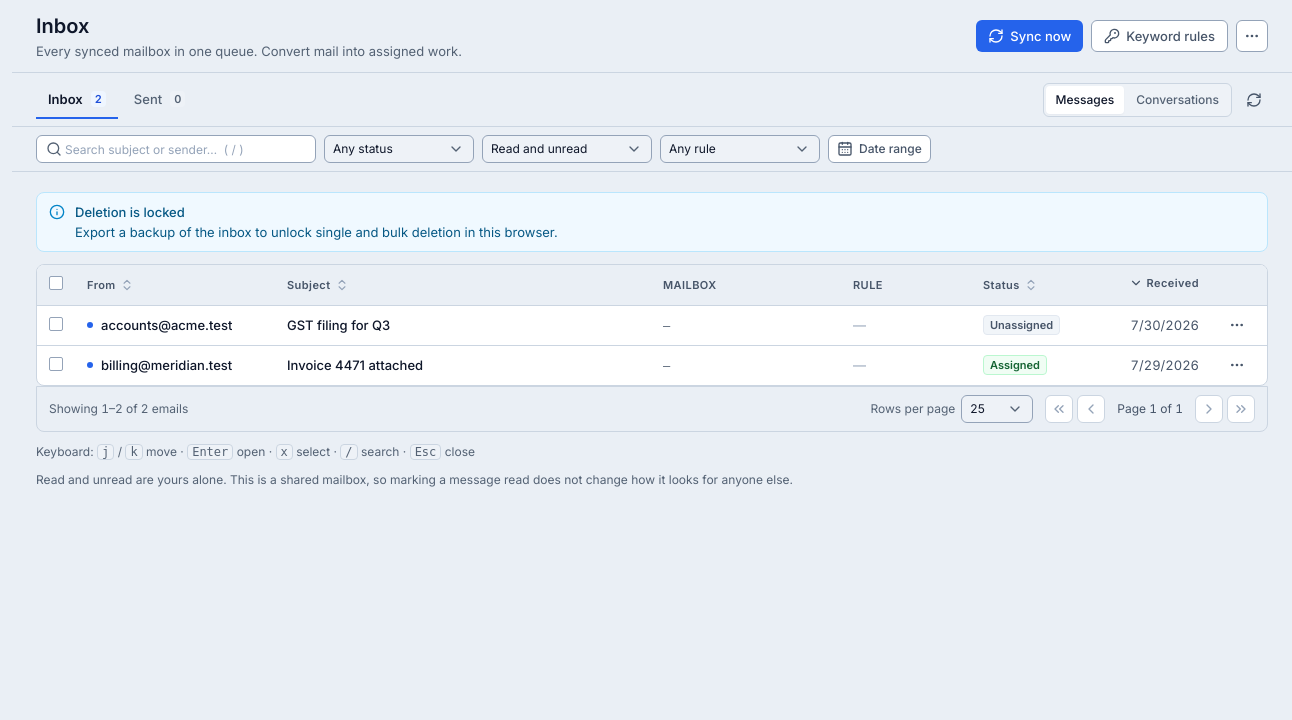
it: EmailInbox — search is debounced and abortable › collapses a burst of keystrokes into one request
The image size is (1292, 720).
Check: the text "GST filing for Q3" is shown, box [287, 317, 390, 333]
In the search field named "search emails": [176, 149] box [36, 135, 316, 163], type "GST"
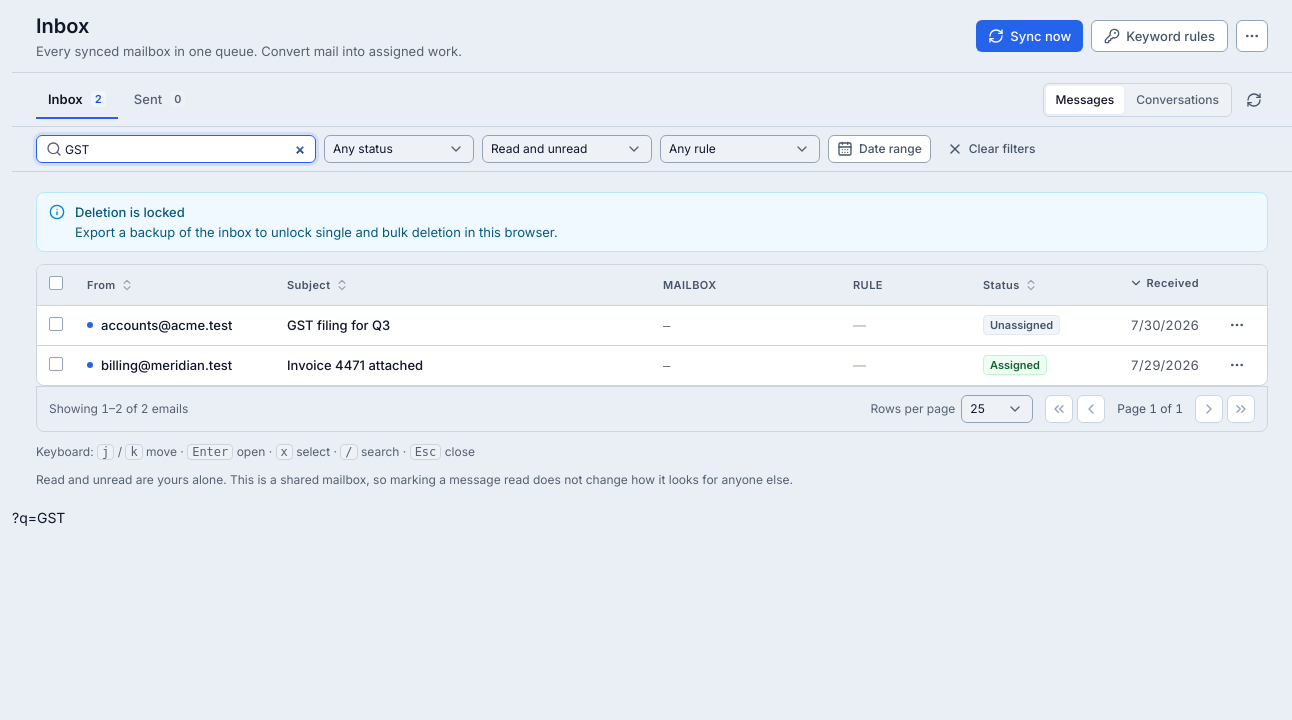
Check: the text with test id "query-string" shows "q=GST", box [12, 509, 65, 526]
